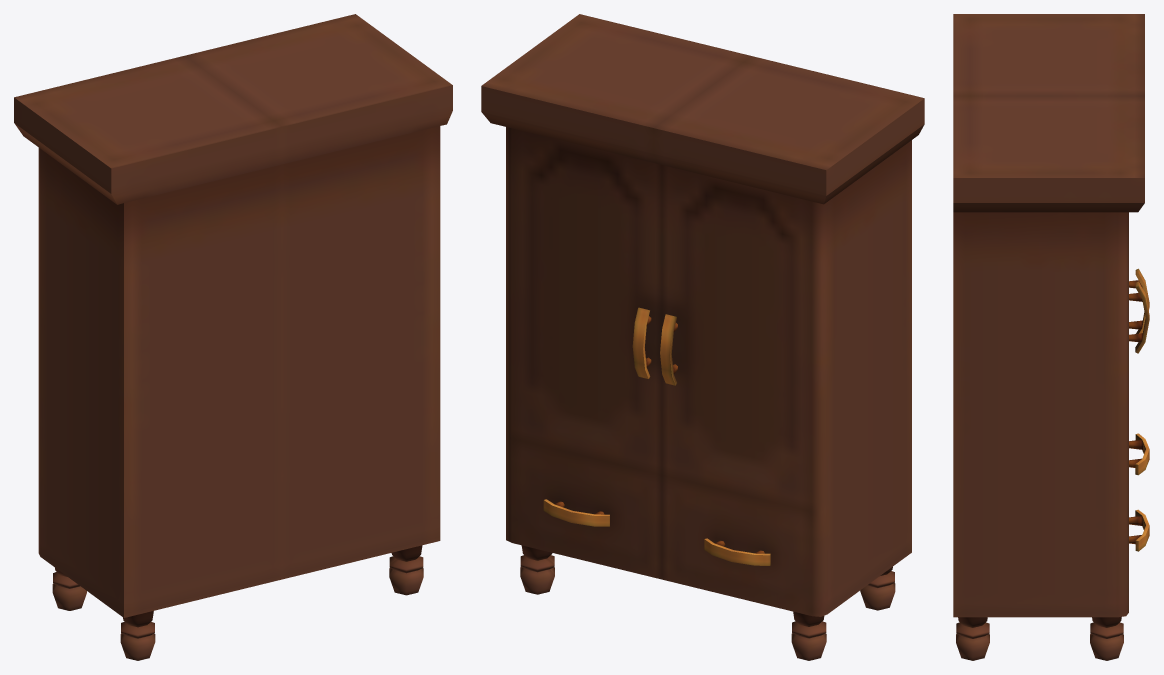
File: Cabinet01.gltf
3 views of the same model, side by side, from view 1: azimuth 30°, elevation 25°; view 2: azimuth 150°, elevation 25°; view 3: azimuth 270°, elevation 25° (orthographic). The views are drawn at different scales.
Parts seen in each view (by area): view 1: Cabinet01; view 2: Cabinet01; view 3: Cabinet01.
Part boxes in pixels (box(x1,y1,x2,y2)): Cabinet01: box(14, 14, 452, 660); Cabinet01: box(481, 14, 924, 660); Cabinet01: box(953, 14, 1149, 660).
Bounding box in the file's own units: 58 × 81.58 × 29.32.
Materials: 1 (1 with a texture image).
